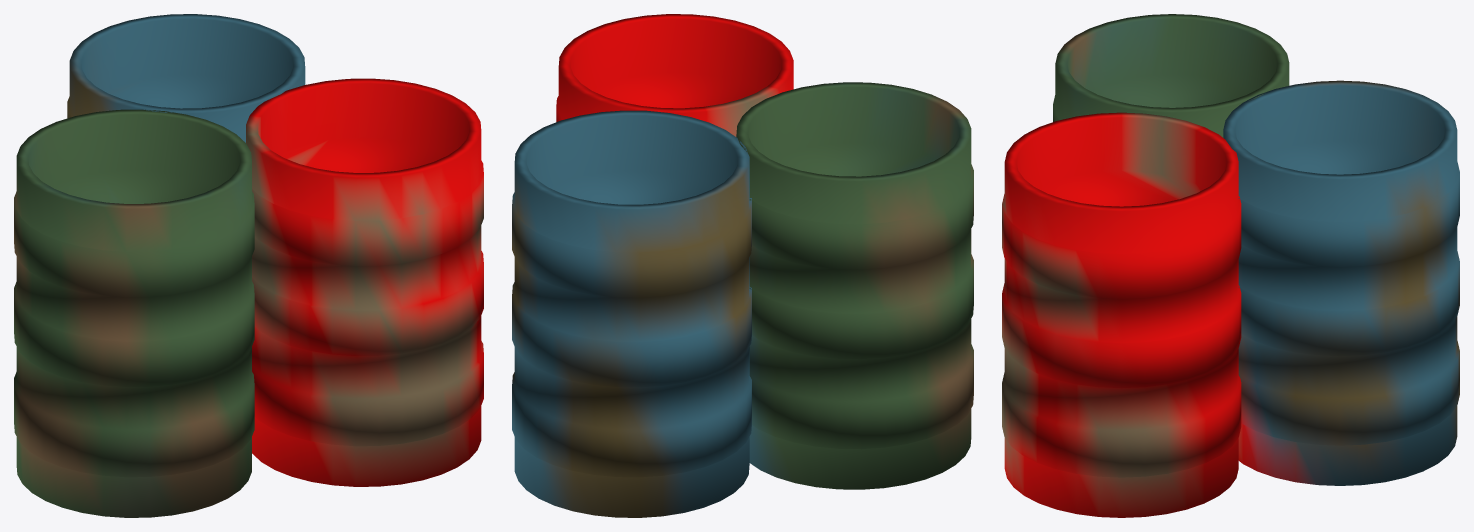
The model's file is Cans.fbx.
The picture shows the model from 3 angles, left to right: view 1: azimuth 30°, elevation 25°; view 2: azimuth 150°, elevation 25°; view 3: azimuth 270°, elevation 25°; orthographic projection.
Visible parts, largest first — view 1: Cylinder; view 2: Cylinder; view 3: Cylinder.
Boxes of the visible parts, box(x1,y1,x2,y2) form: Cylinder: box(14, 14, 483, 517); Cylinder: box(512, 14, 973, 517); Cylinder: box(1002, 14, 1459, 517).
Size of the model in its own units: 159 by 114 by 154.
